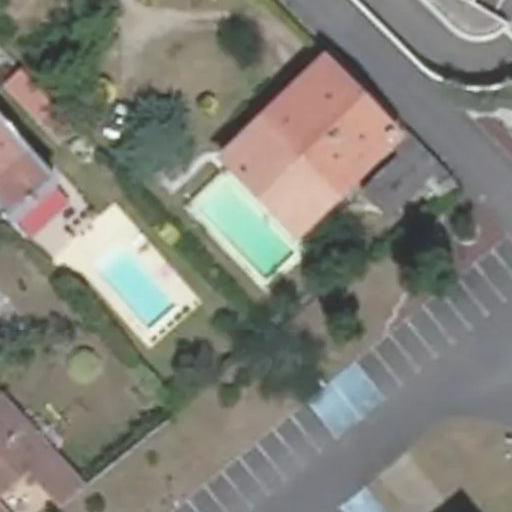pool: (207, 222, 305, 263)
